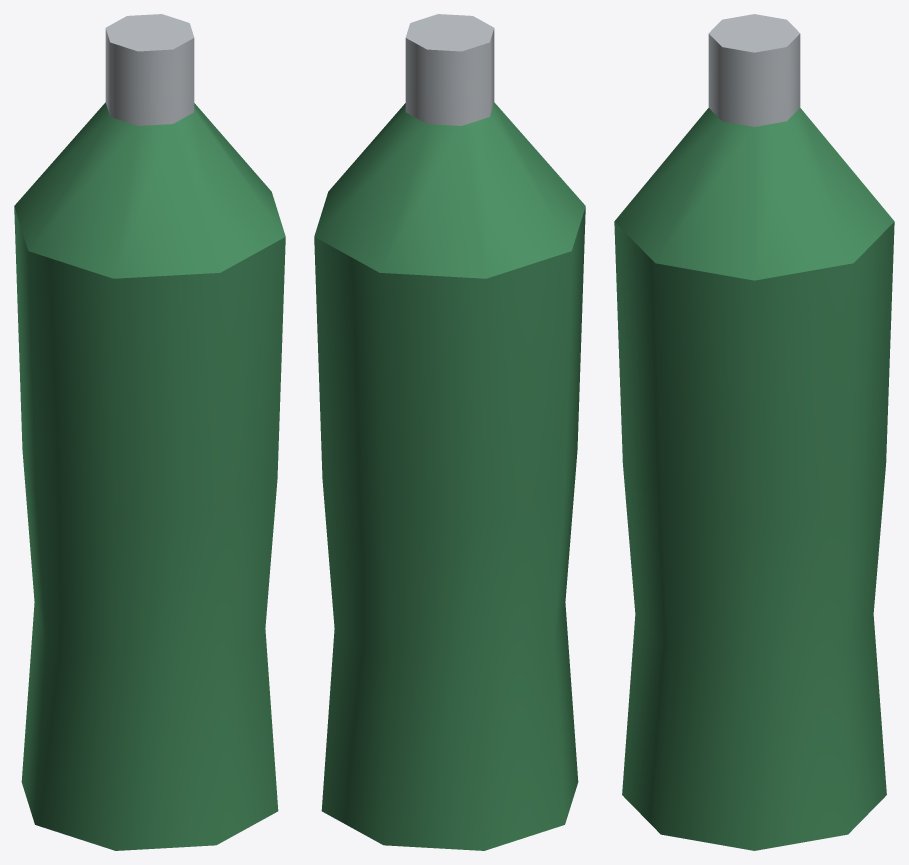
The model's file is Plastic01Bottle_Alisson3d.fbx.
3 renders of one model, left to right at view 1: azimuth 30°, elevation 25°; view 2: azimuth 150°, elevation 25°; view 3: azimuth 270°, elevation 25°, orthographic.
Parts seen in each view (by area): view 1: PlasticBottle; view 2: PlasticBottle; view 3: PlasticBottle.
Part boxes in pixels (bbox=[...]): PlasticBottle: bbox=[14, 14, 285, 850]; PlasticBottle: bbox=[314, 14, 585, 850]; PlasticBottle: bbox=[614, 14, 894, 850].
Bounding box in the file's own units: 34.33 × 103 × 34.33.
